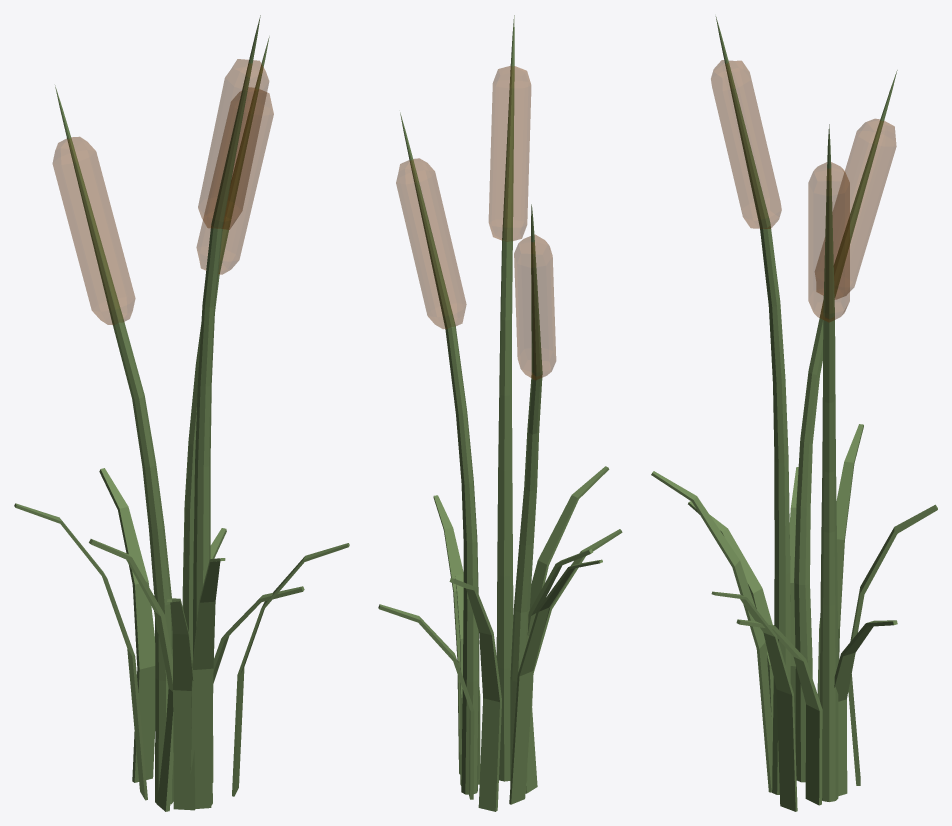
Rendered from Cattail.glb.
3 views of the same model, side by side, from view 1: azimuth 30°, elevation 25°; view 2: azimuth 150°, elevation 25°; view 3: azimuth 270°, elevation 25° (orthographic). The views are drawn at different scales.
Parts seen in each view (by area): view 1: cattail; view 2: cattail; view 3: cattail.
Boxes of the visible parts, <box> form: cattail: <box>14,15,349,811</box>; cattail: <box>378,15,622,811</box>; cattail: <box>651,16,937,811</box>.
Bounding box in the file's own units: 4.47 × 13.25 × 4.37.
